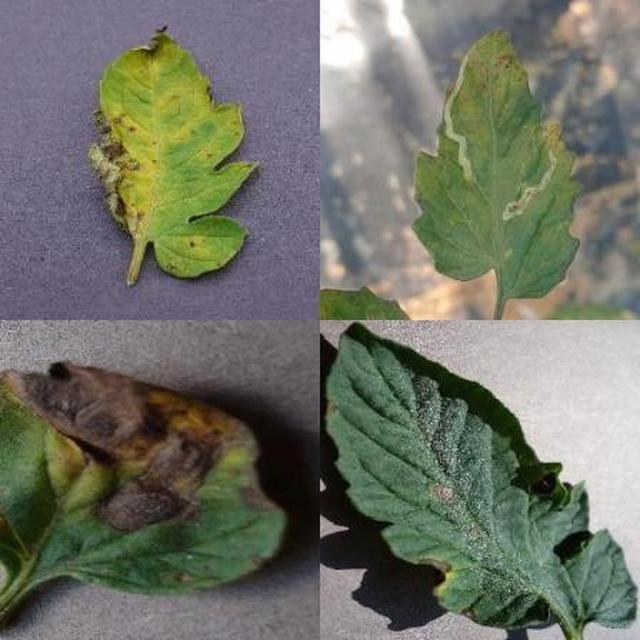Septoria Leaf: (207, 216, 640, 640)
